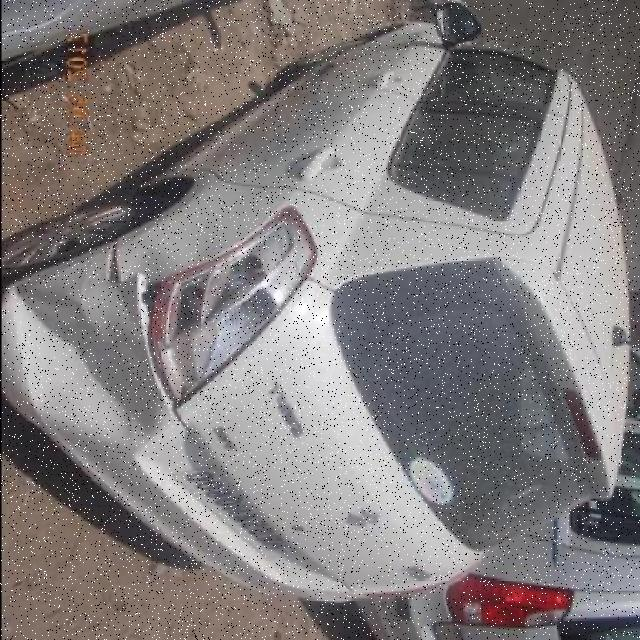damage: (7, 243, 180, 436)
